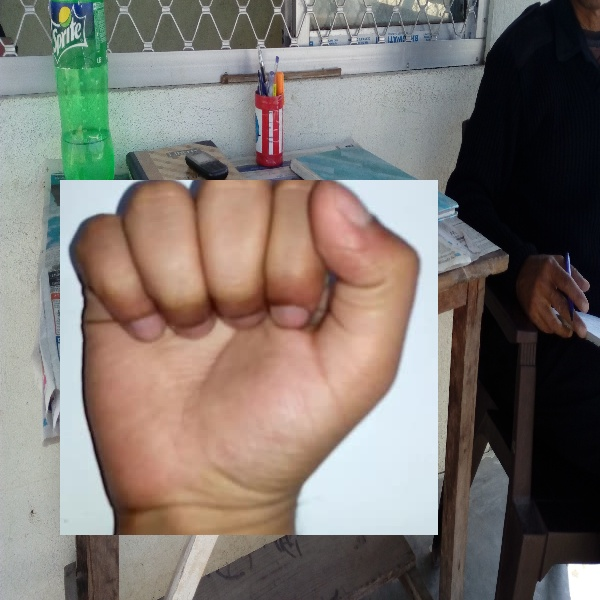A: (60, 180, 438, 535)
